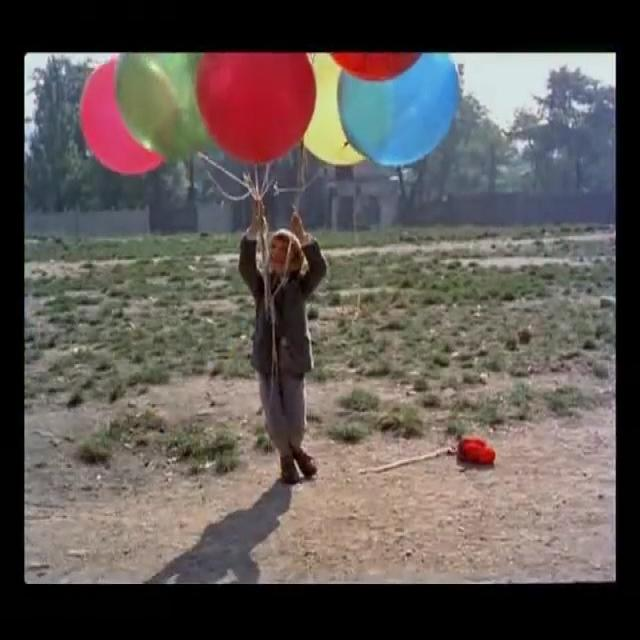balloon: (336, 51, 460, 168), (194, 51, 316, 165), (114, 51, 224, 165), (78, 54, 165, 174), (302, 52, 366, 167), (329, 49, 422, 82)
